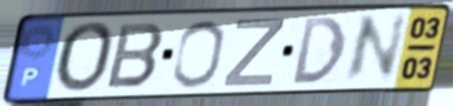B: (103, 22, 167, 91)
D: (290, 14, 348, 87)
N: (339, 10, 411, 87)
O: (53, 19, 119, 95), (169, 18, 227, 90)
Z: (220, 16, 288, 89)
